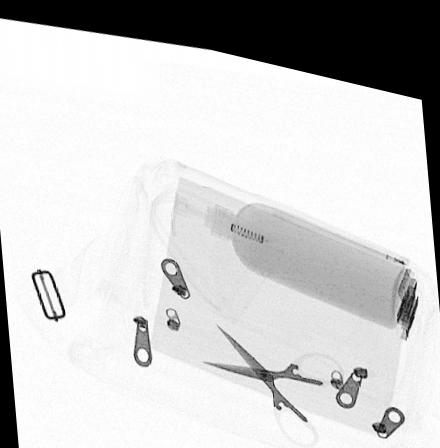Scissors: (199, 312, 346, 434)
